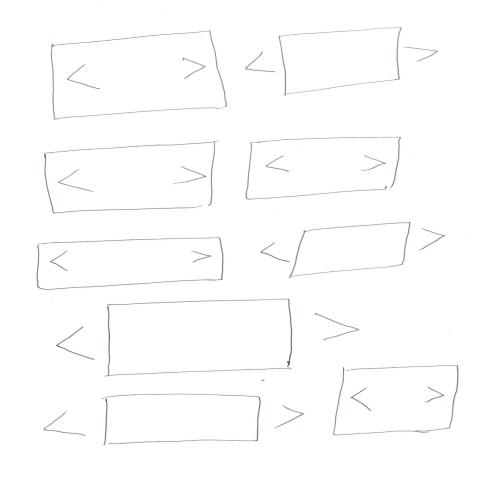Carousel: (56, 298, 358, 372), (51, 29, 230, 121), (244, 27, 442, 98), (43, 394, 306, 446), (44, 141, 217, 214), (260, 222, 449, 279), (36, 237, 225, 291), (246, 137, 404, 201), (332, 365, 461, 438)
